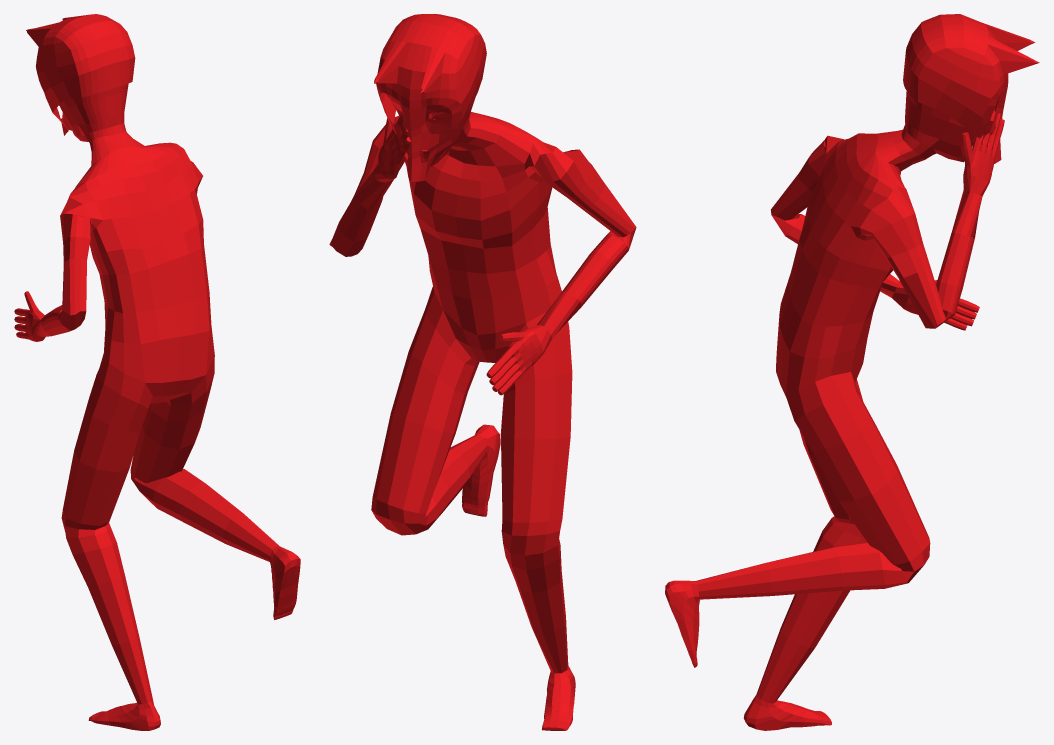
Rendered from correrE_000087.obj.
The picture shows the model from 3 angles, left to right: view 1: azimuth 30°, elevation 25°; view 2: azimuth 150°, elevation 25°; view 3: azimuth 270°, elevation 25°; orthographic projection. The views are drawn at different scales.
Parts seen in each view (by area): view 1: Plane.002_Plane.001; view 2: Plane.002_Plane.001; view 3: Plane.002_Plane.001.
Boxes of the visible parts, x1,y1,x2,y2 form: Plane.002_Plane.001: (14,14,300,730); Plane.002_Plane.001: (329,14,636,730); Plane.002_Plane.001: (665,14,1039,730).
Bounding box in the file's own units: 2.07 × 6.53 × 3.06.
